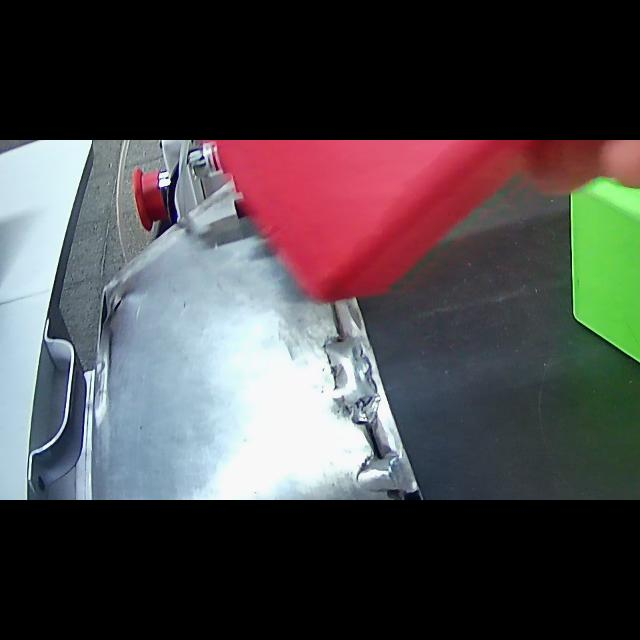greenBox: (568, 140, 640, 438)
redBox: (177, 140, 628, 308)
